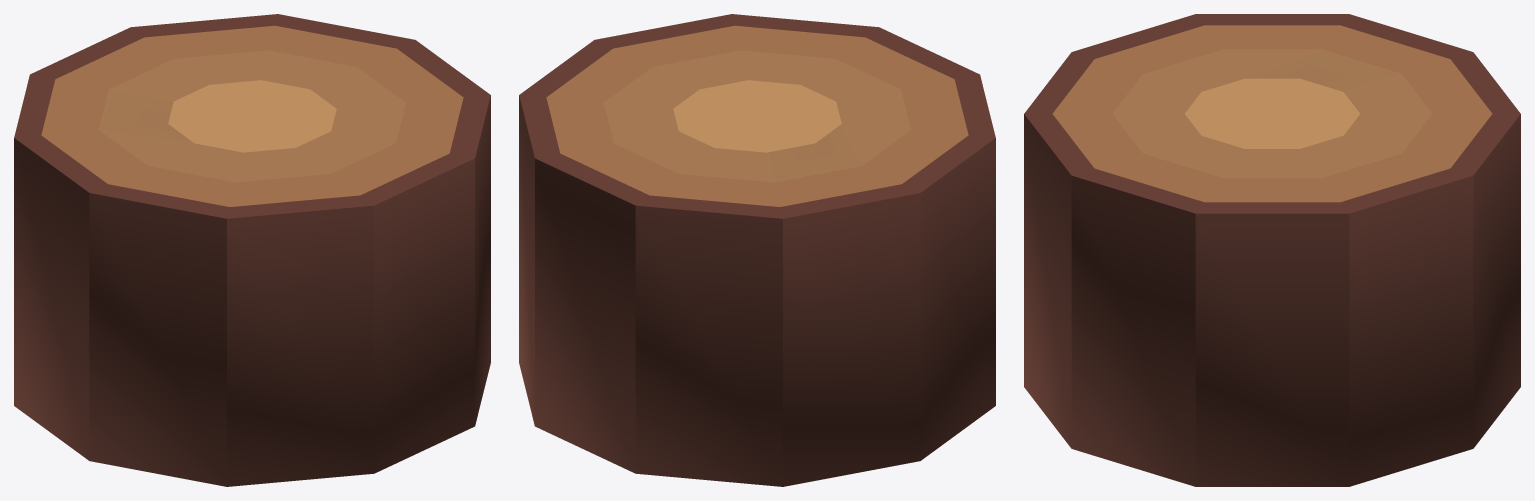
File: stump_small.fbx
3 views of the same model, side by side, from view 1: azimuth 30°, elevation 25°; view 2: azimuth 150°, elevation 25°; view 3: azimuth 270°, elevation 25° (orthographic).
Visible parts, largest first — view 1: stump; view 2: stump; view 3: stump.
Part boxes in pixels (<box>): stump: <box>14,14,490,486</box>; stump: <box>519,14,995,486</box>; stump: <box>1024,14,1520,486</box>.
Bounding box in the file's own units: 26.63 × 17 × 28.
